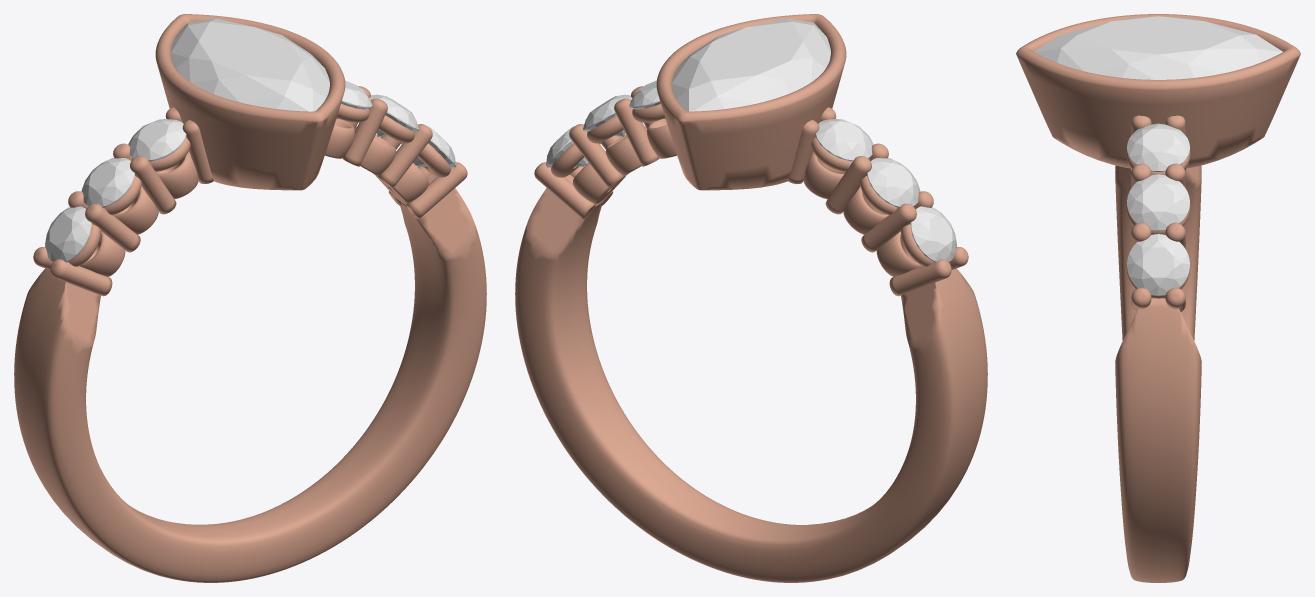
The model's file is diamond-marquise-rosegold-bezelset-straighttaperedband-7stone.glb.
3 views of the same model, side by side, from view 1: azimuth 30°, elevation 25°; view 2: azimuth 150°, elevation 25°; view 3: azimuth 270°, elevation 25° (orthographic).
Parts seen in each view (by area): view 1: metal.002, stone.002, side.002, side.013, side.014, side.016; view 2: metal.002, stone.002, side.002, side.013, side.014, side.016; view 3: metal.002, stone.002, side.015, side.016, side.017.
Boxes of the visible parts, x1,y1,x2,y2 form: metal.002: (14, 14, 486, 582); stone.002: (171, 18, 329, 111); side.002: (45, 206, 91, 262); side.013: (81, 158, 134, 207); side.014: (128, 119, 186, 161); side.016: (369, 94, 419, 136); metal.002: (515, 14, 987, 582); stone.002: (672, 18, 830, 111); side.002: (910, 206, 956, 262); side.013: (867, 158, 920, 207); side.014: (815, 119, 873, 161); side.016: (582, 94, 632, 136); metal.002: (1016, 14, 1300, 582); stone.002: (1034, 16, 1282, 79); side.015: (1127, 234, 1189, 295); side.016: (1127, 174, 1189, 231); side.017: (1127, 123, 1189, 171).
Size of the model in its own units: 20.5 by 22.93 by 11.31.
